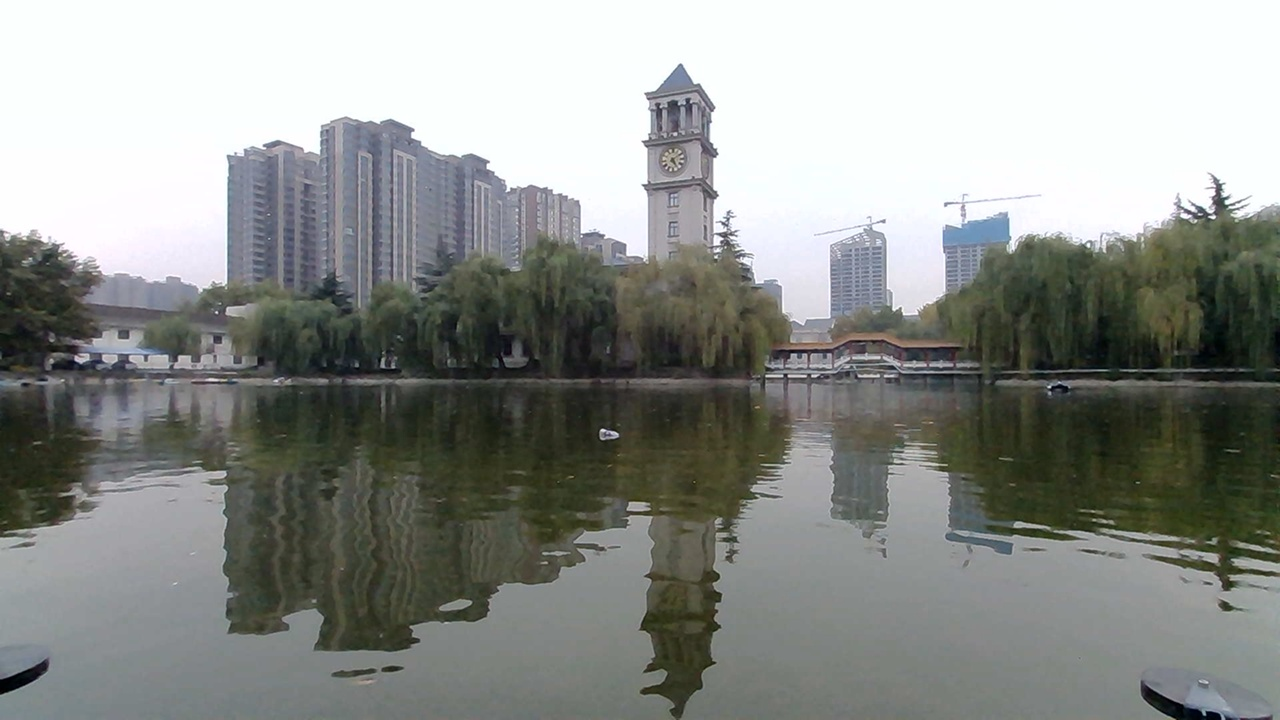bottle: (579, 414, 631, 452)
